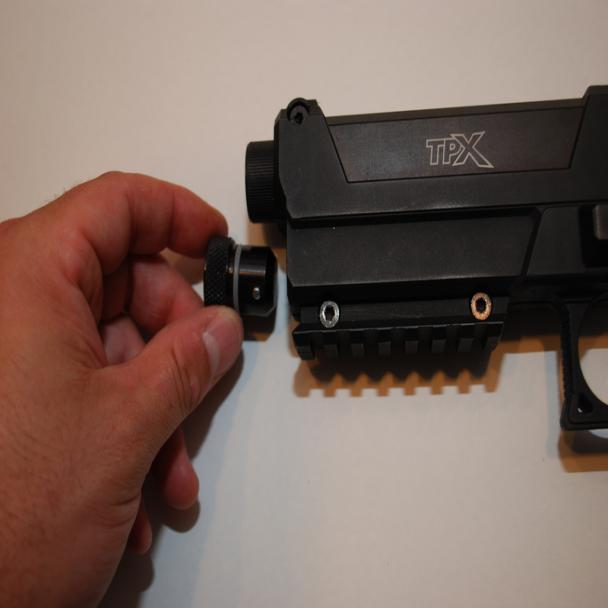Gun: (237, 80, 607, 442)
